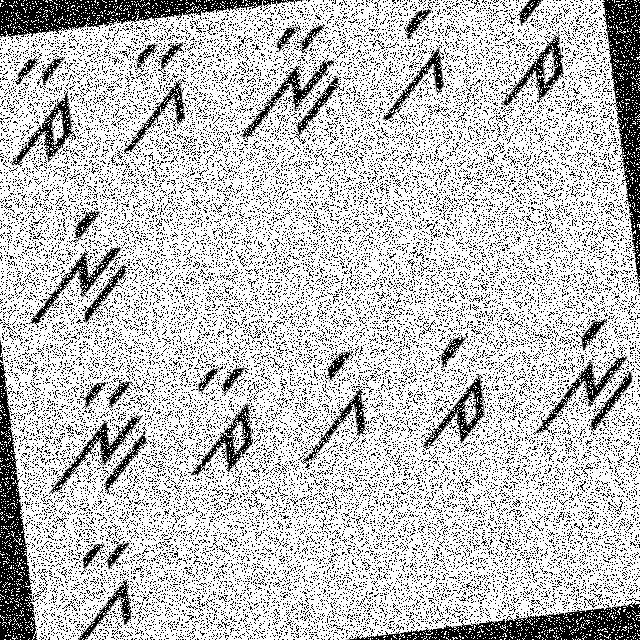gan: (104, 31, 209, 156), (43, 530, 154, 639)
gang: (359, 2, 455, 128), (292, 339, 376, 464)
ngan: (34, 361, 164, 506), (220, 16, 349, 148)
ngang: (518, 302, 639, 440), (8, 202, 138, 328)
tan: (0, 47, 94, 170), (178, 357, 266, 481)
tang: (392, 327, 498, 460), (475, 0, 580, 109)
